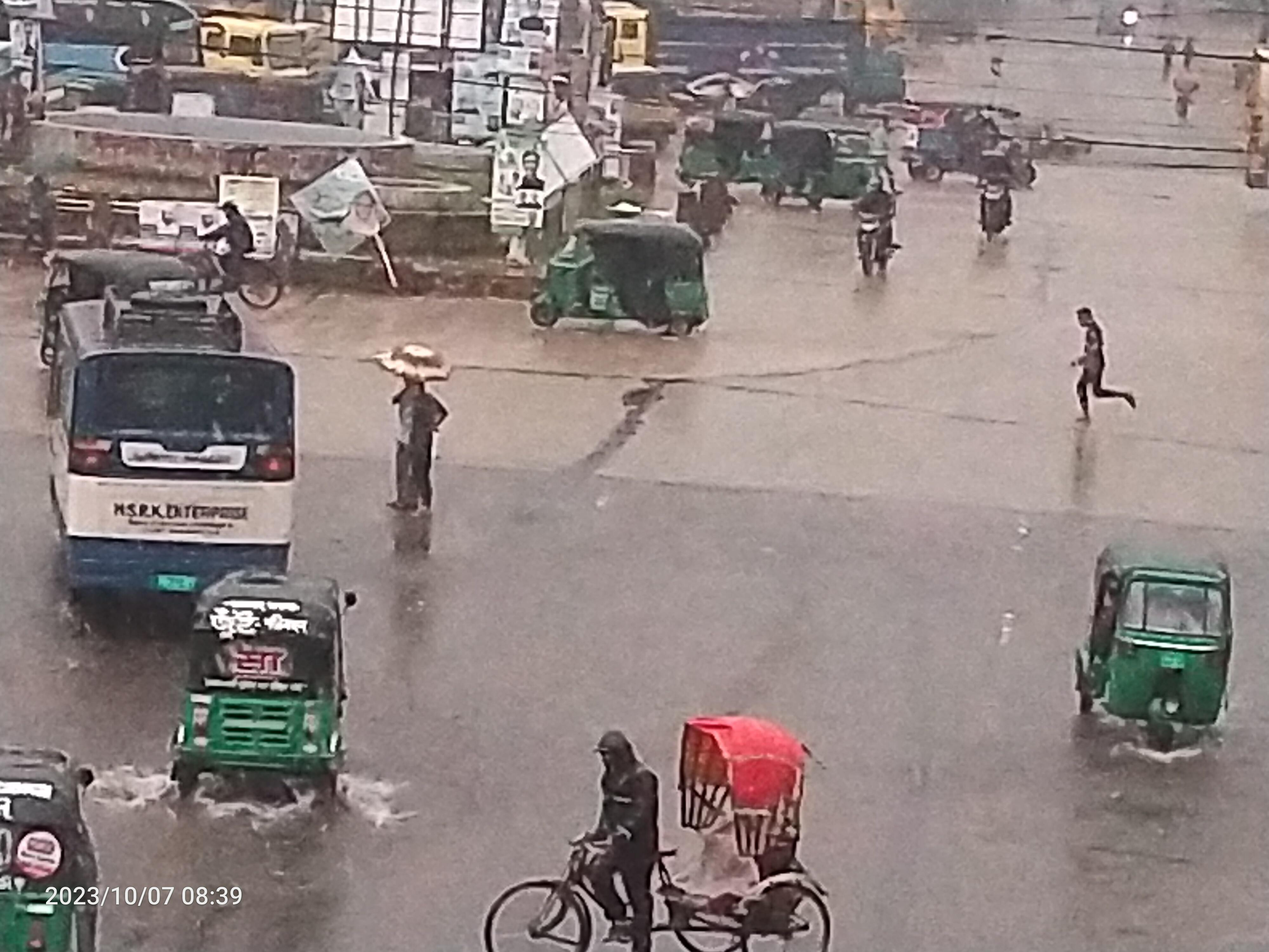Bike: (141, 178, 305, 320), (825, 170, 935, 302), (967, 131, 1030, 260)
Bus: (0, 261, 328, 671)
Car: (438, 689, 831, 952)
Truck: (591, 3, 873, 110)
